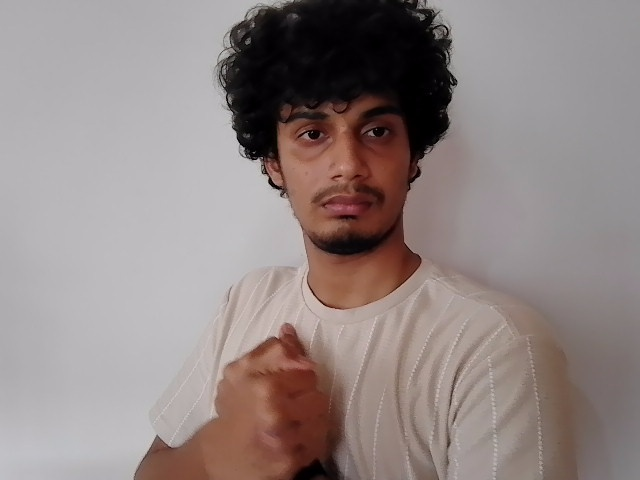love: (215, 328, 345, 468)
